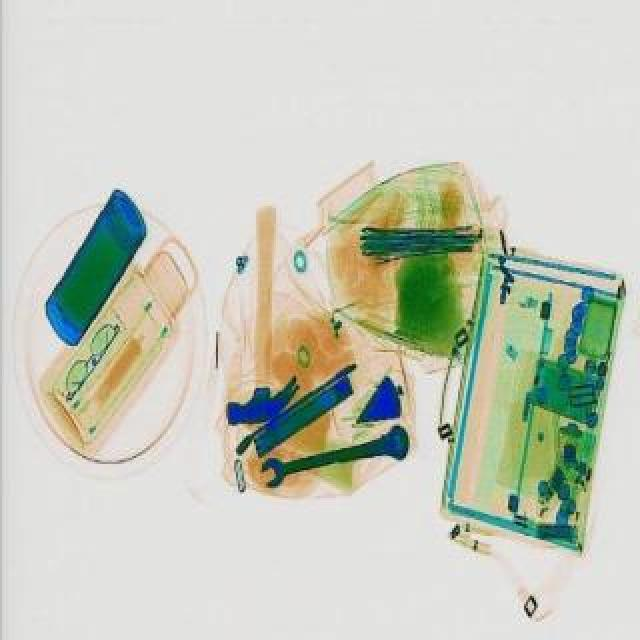scissors: (256, 422, 416, 492)
